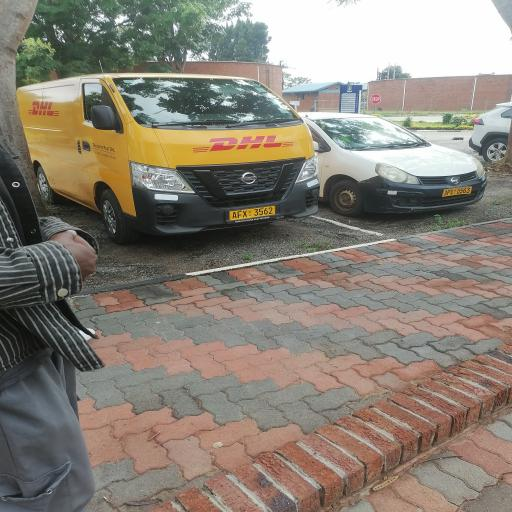number-plates: (224, 208, 286, 221)
